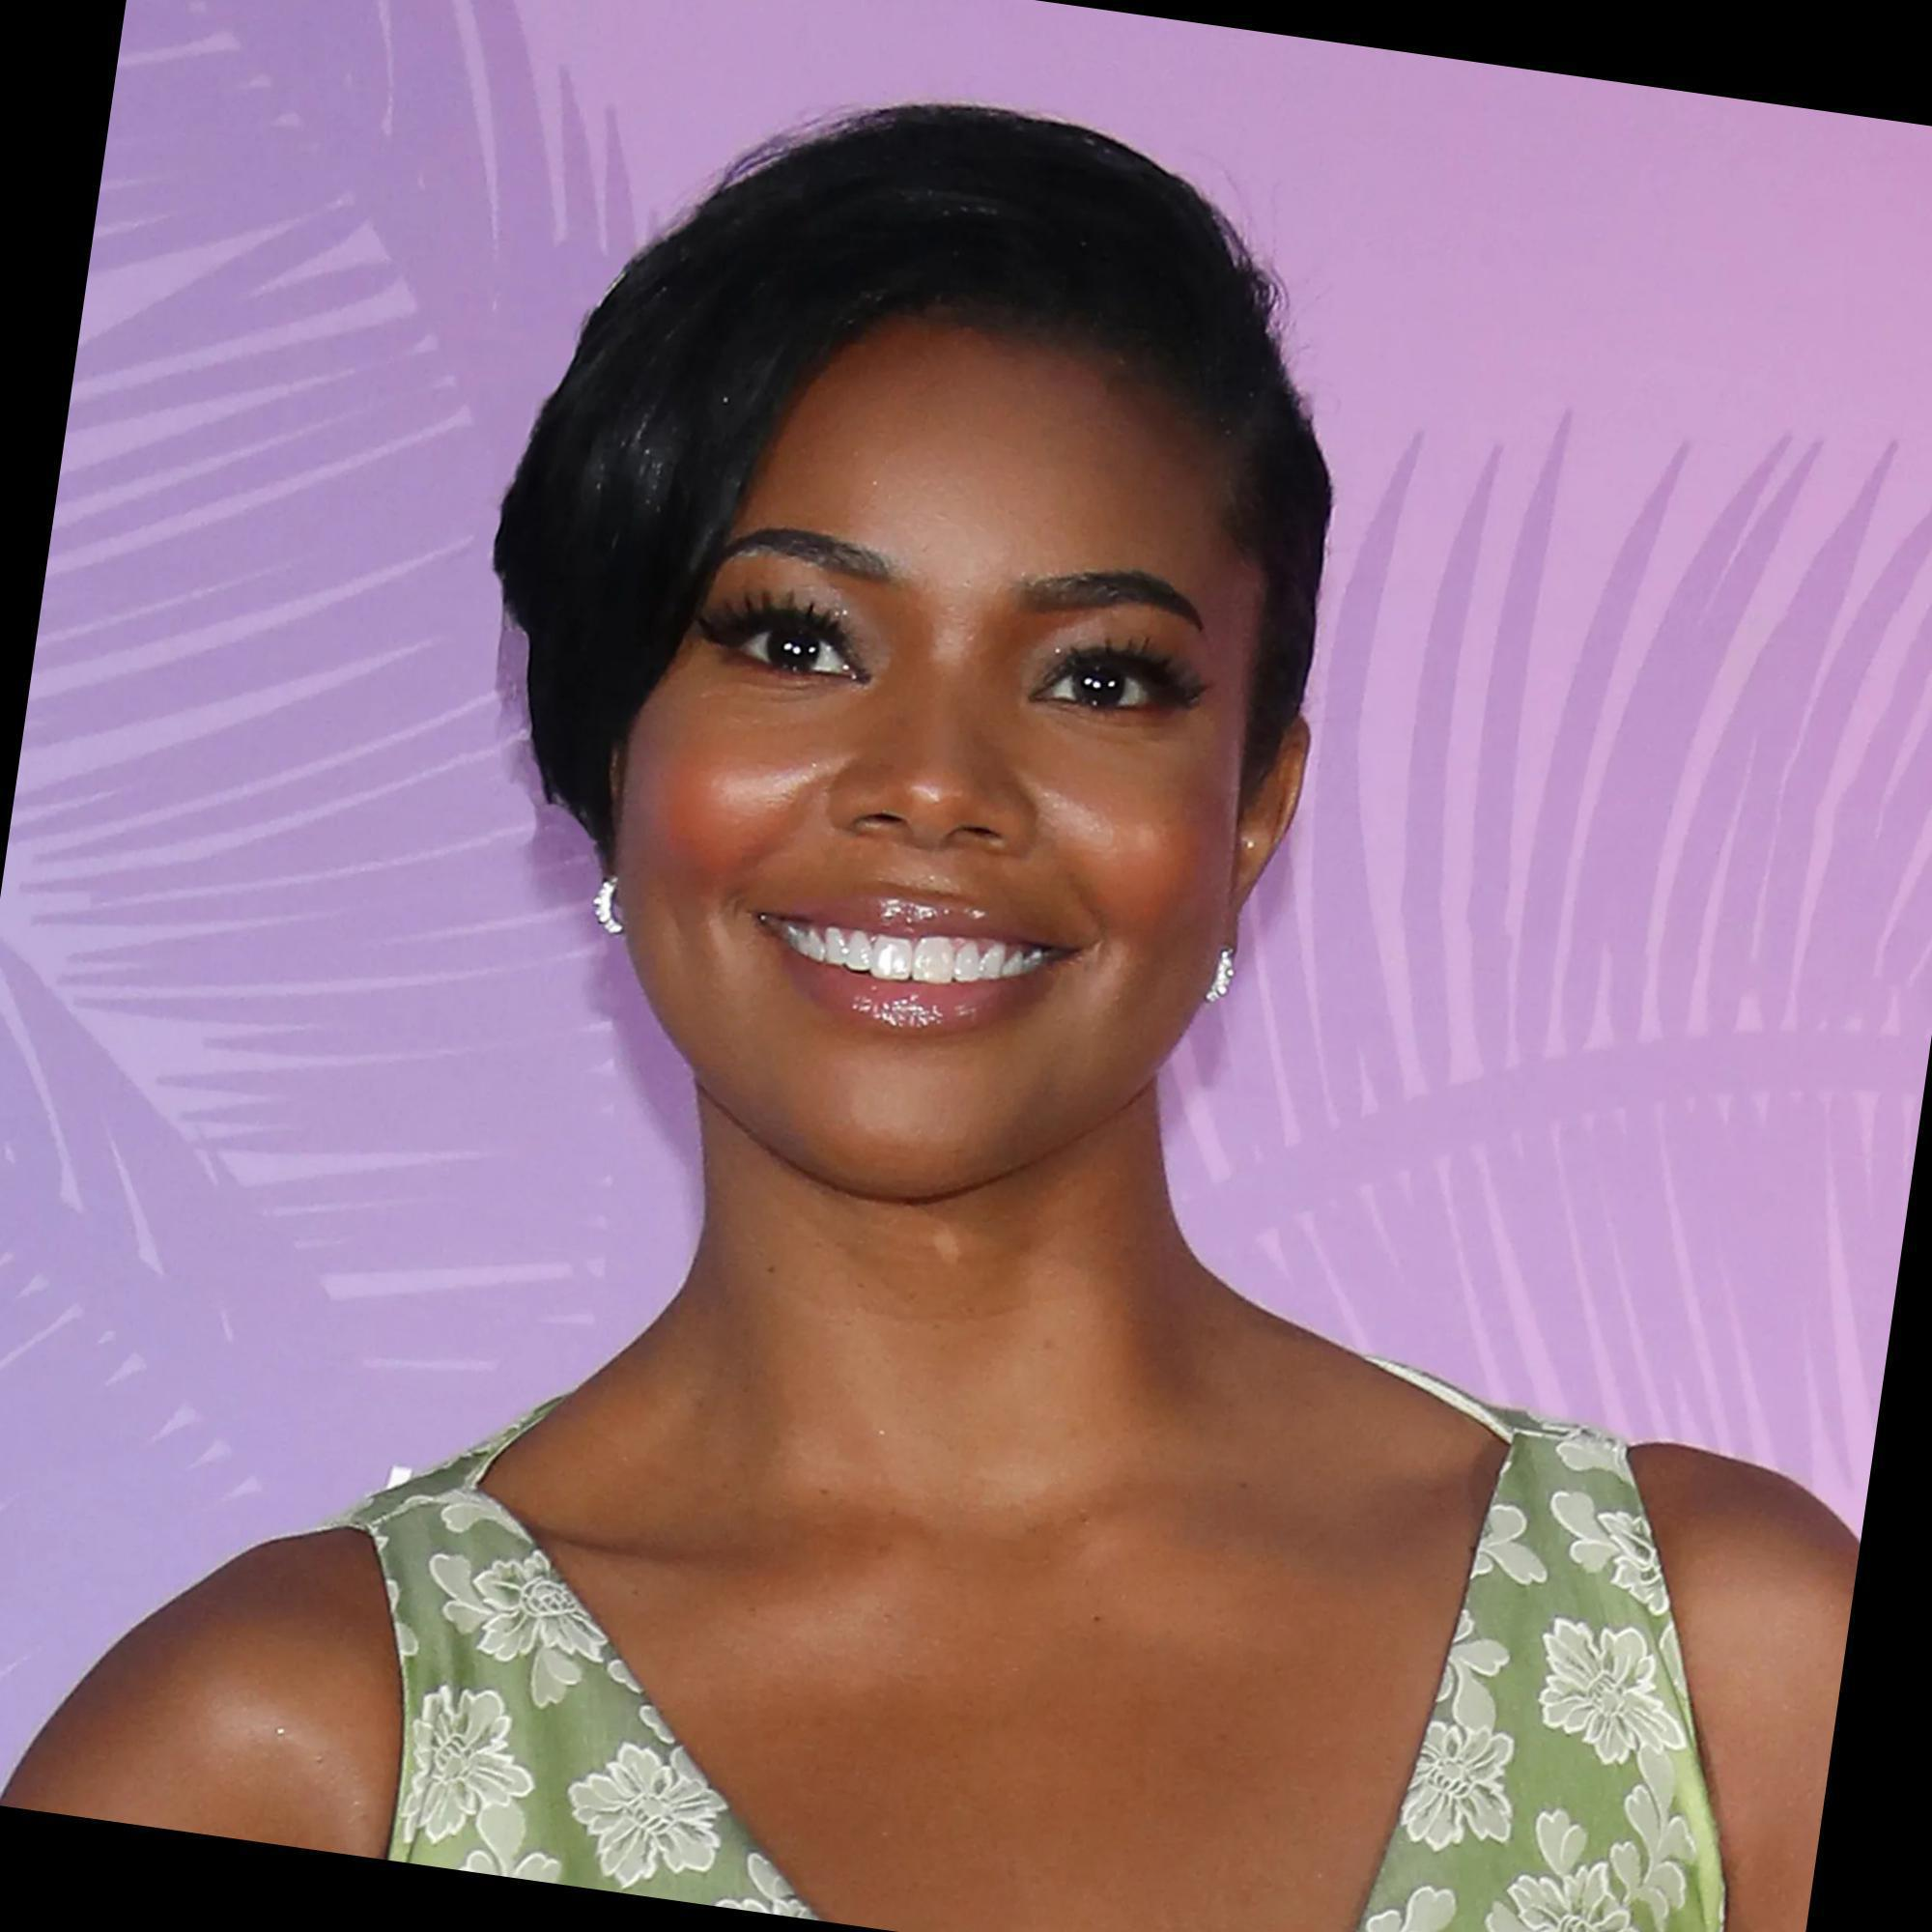Sober: (663, 368, 1247, 1157)
